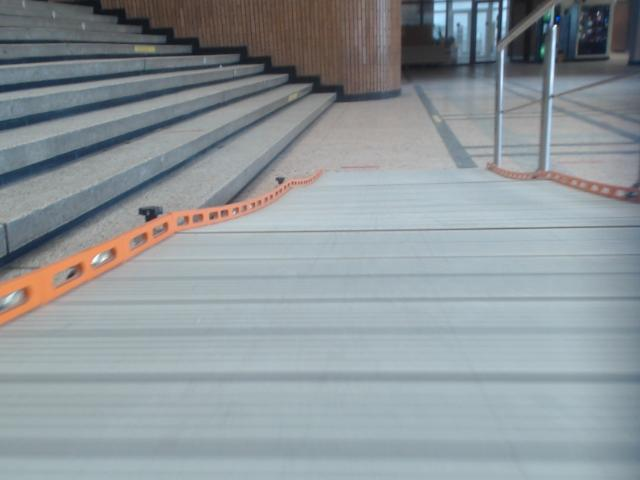rampDown: (0, 169, 639, 479)
ramps-railing: (493, 0, 559, 166), (540, 23, 557, 171)
